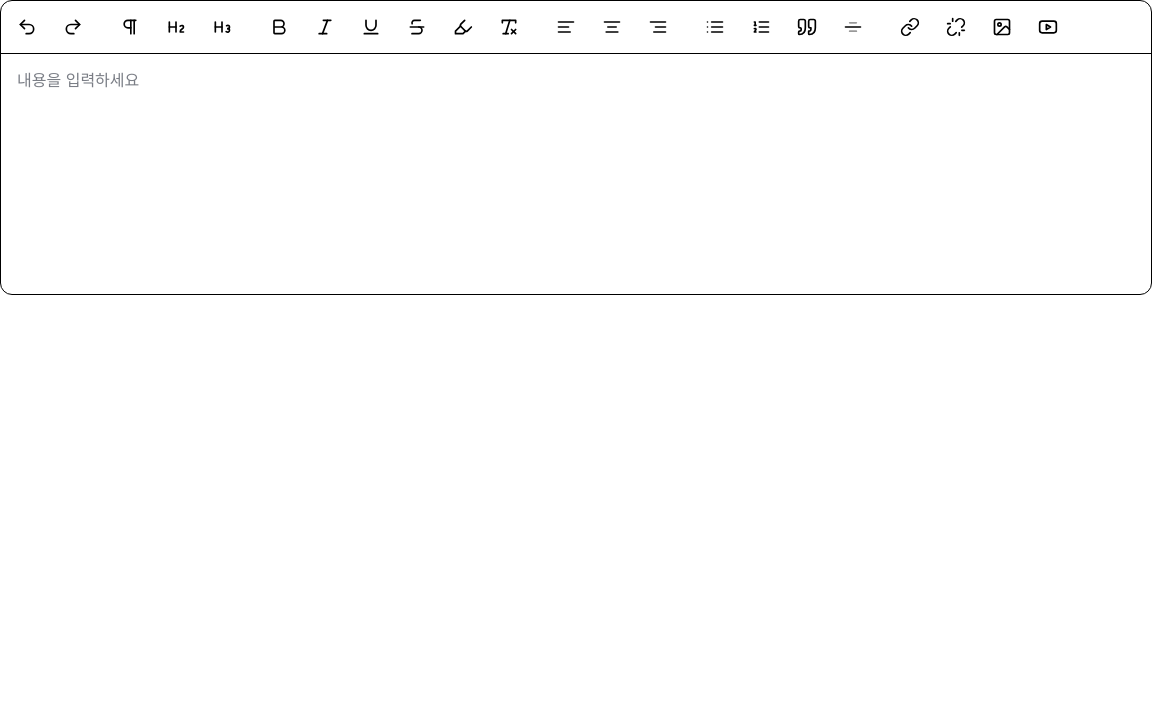
Test case: RichTextEditor › 유튜브 › Esc 로 다이얼로그를 닫는다
This screenshot has width=1152, height=720.
Click the button named "영상": (1048, 27) [1026,5,1070,49]
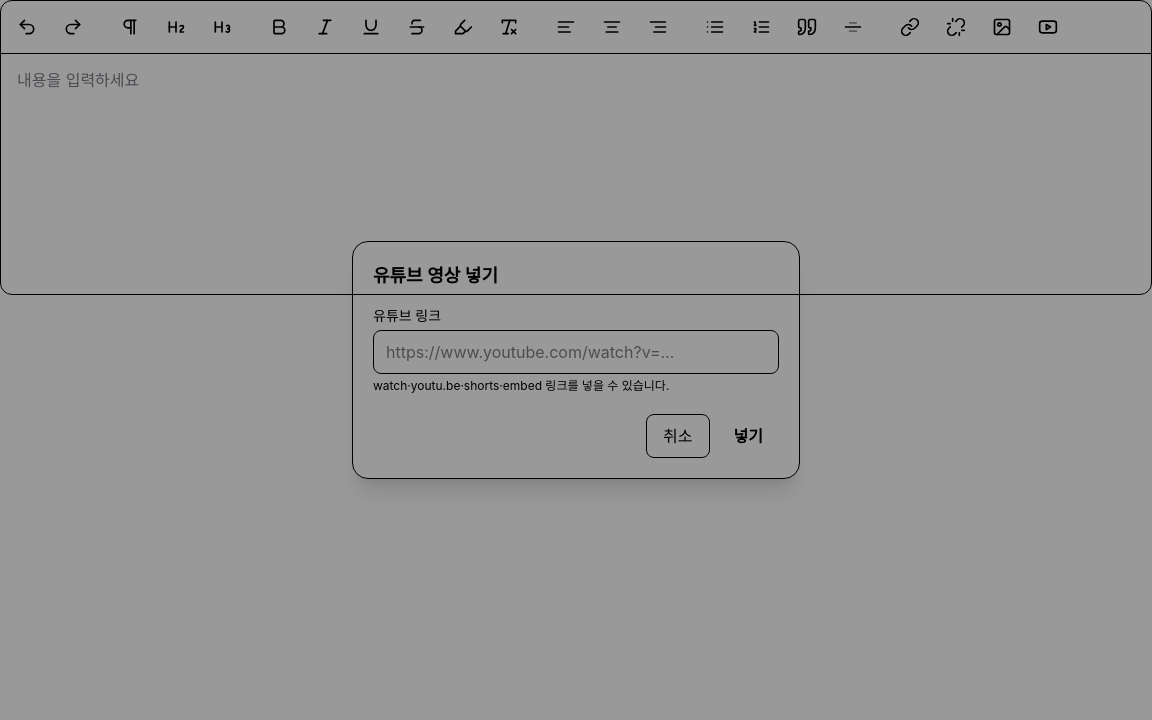
Press Escape in the dialog, box [352,241,800,479]
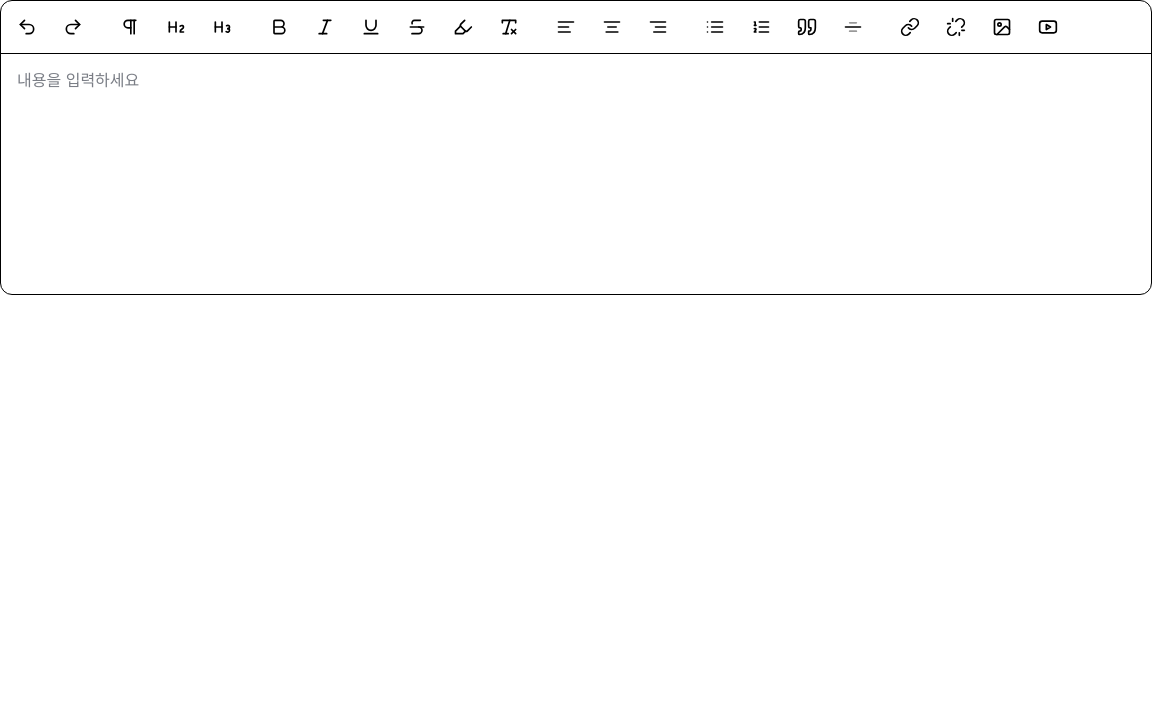
Check: the dialog is gone
